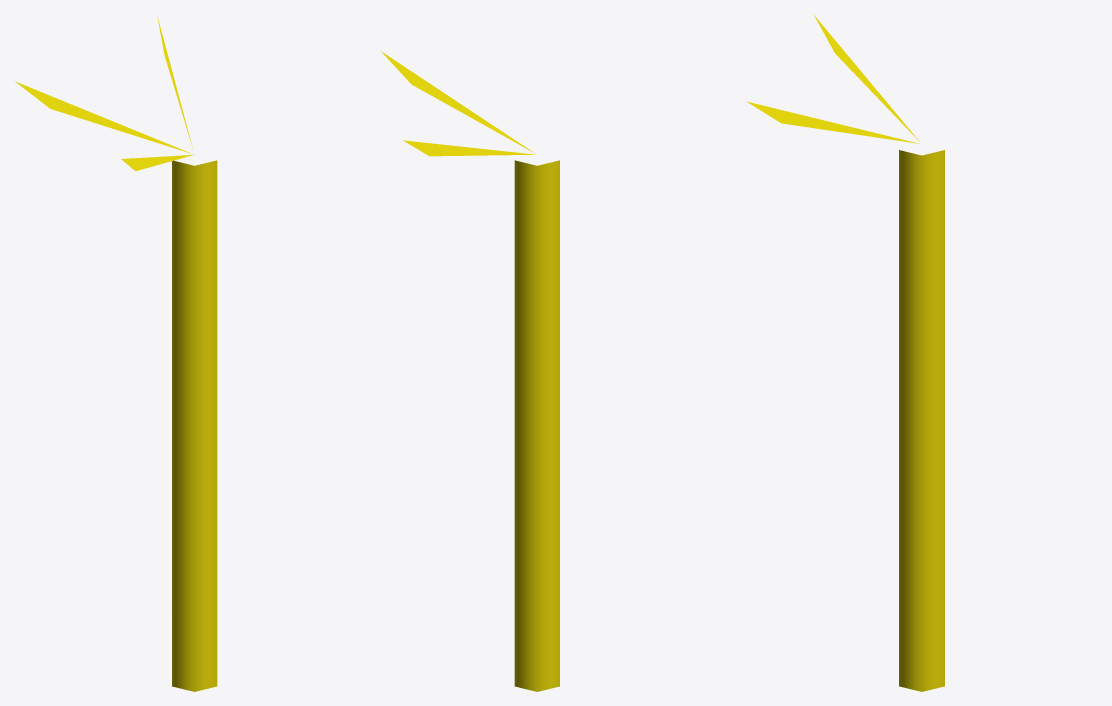
Rendered from flower_buttercup.gltf.
The picture shows the model from 3 angles, left to right: view 1: azimuth 30°, elevation 25°; view 2: azimuth 150°, elevation 25°; view 3: azimuth 270°, elevation 25°; orthographic projection.
Visible parts, largest first — view 1: flower_buttercup; view 2: flower_buttercup; view 3: flower_buttercup.
Part boxes in pixels (x1,y1,x2,y2): flower_buttercup: [15, 16, 217, 691]; flower_buttercup: [381, 51, 559, 691]; flower_buttercup: [746, 15, 944, 691].
Bounding box in the file's own units: 0.2261 × 0.45 × 0.2378.
